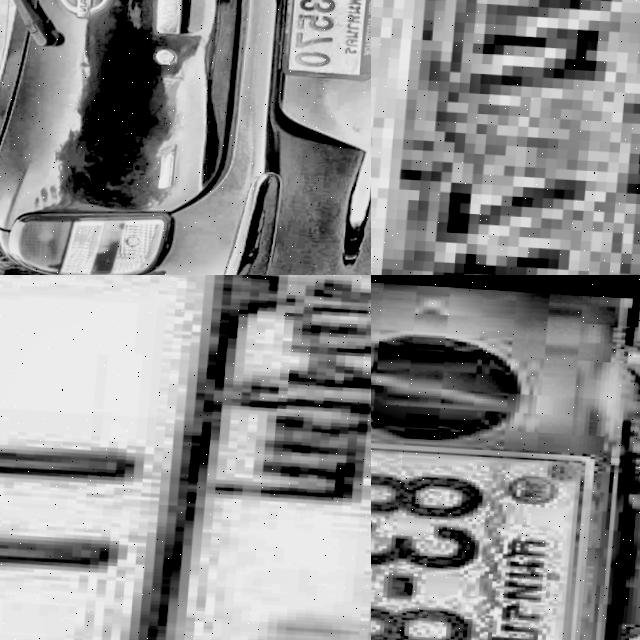license-plate: (0, 275, 371, 640), (371, 0, 640, 275), (371, 428, 600, 640), (278, 0, 371, 75)
